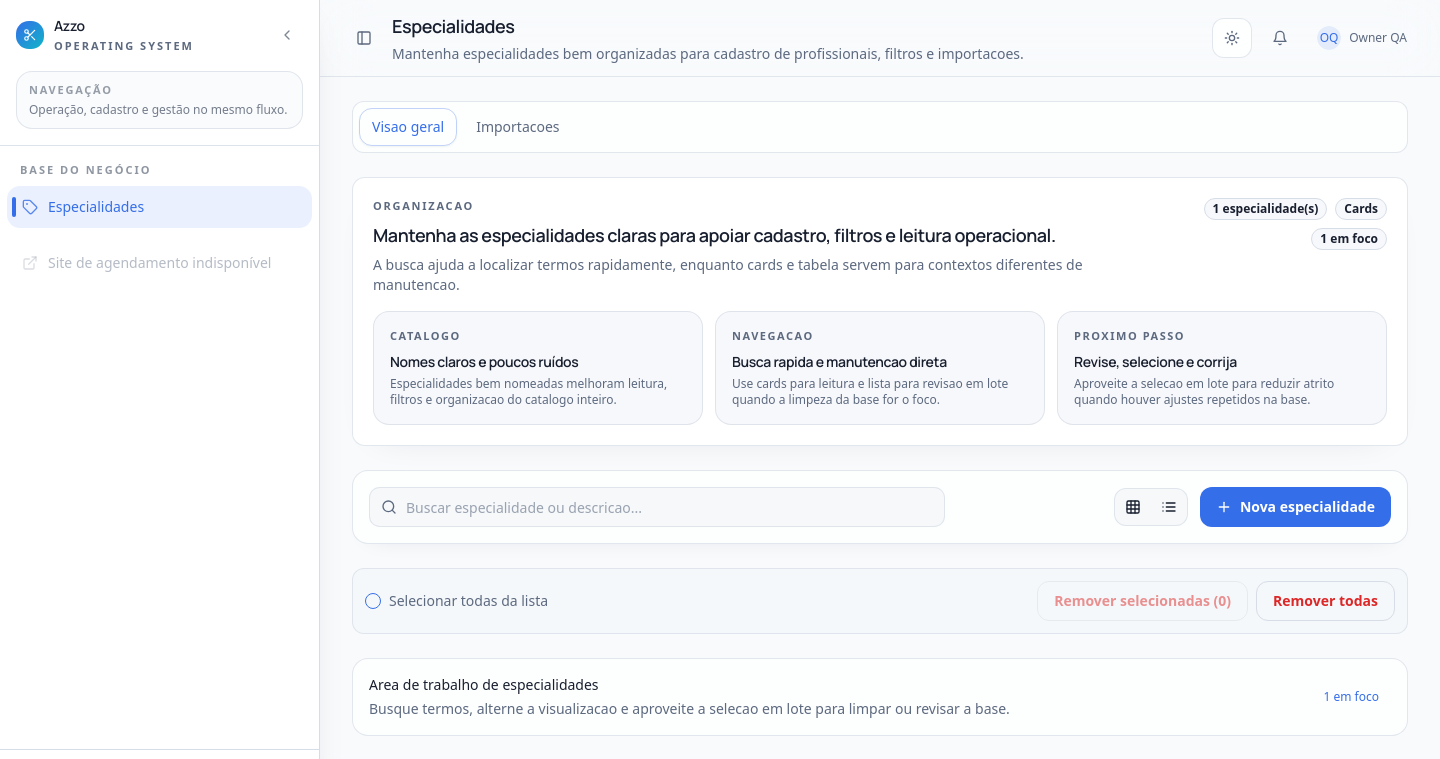
Test: Specialties › should open the specialty create dialog from the shared toolbar pattern
Click the button "Nova especialidade" at (1295, 507), box [1200,487,1391,527]
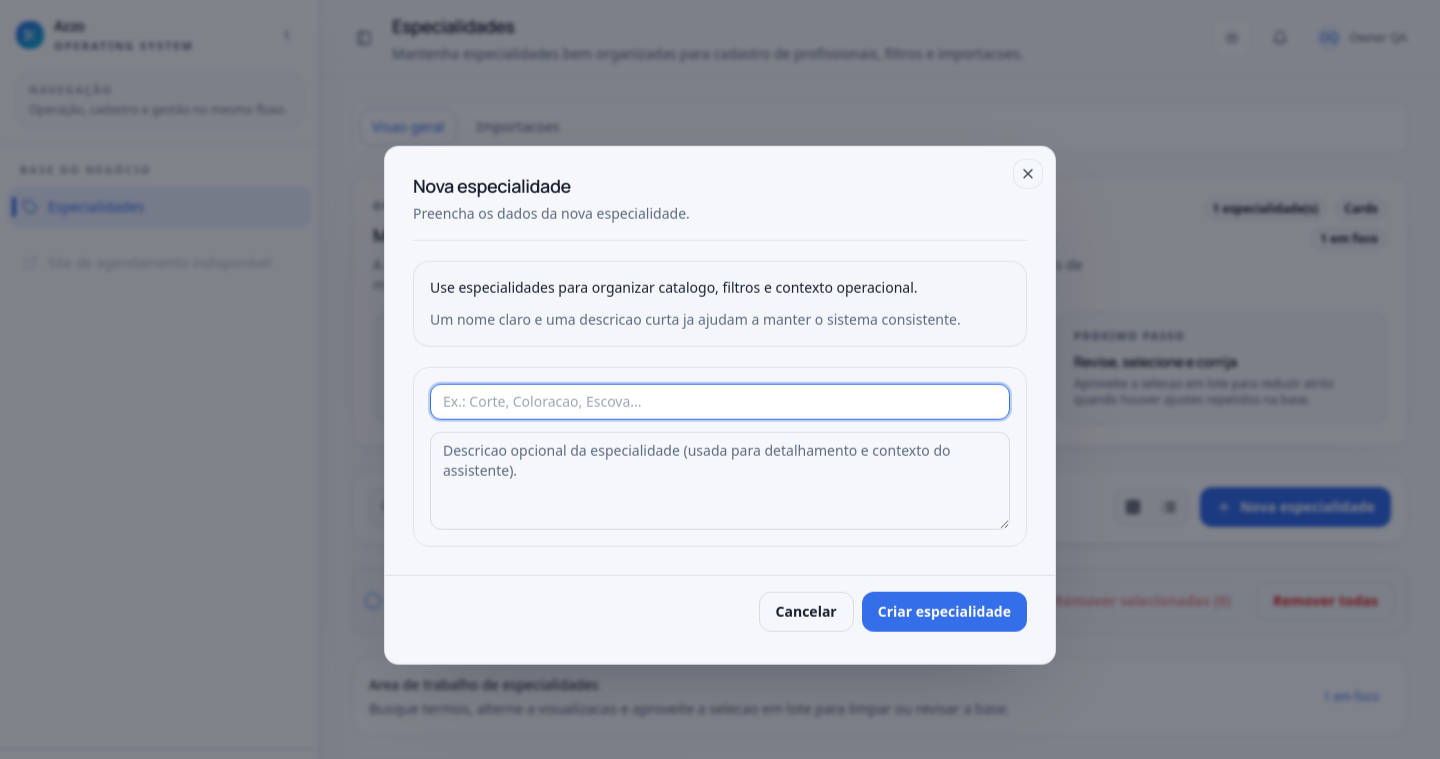
Now the heading "Nova especialidade" is shown, box [413,174,571,198]
Now the button "Criar especialidade" is shown, box [862,591,1027,631]
